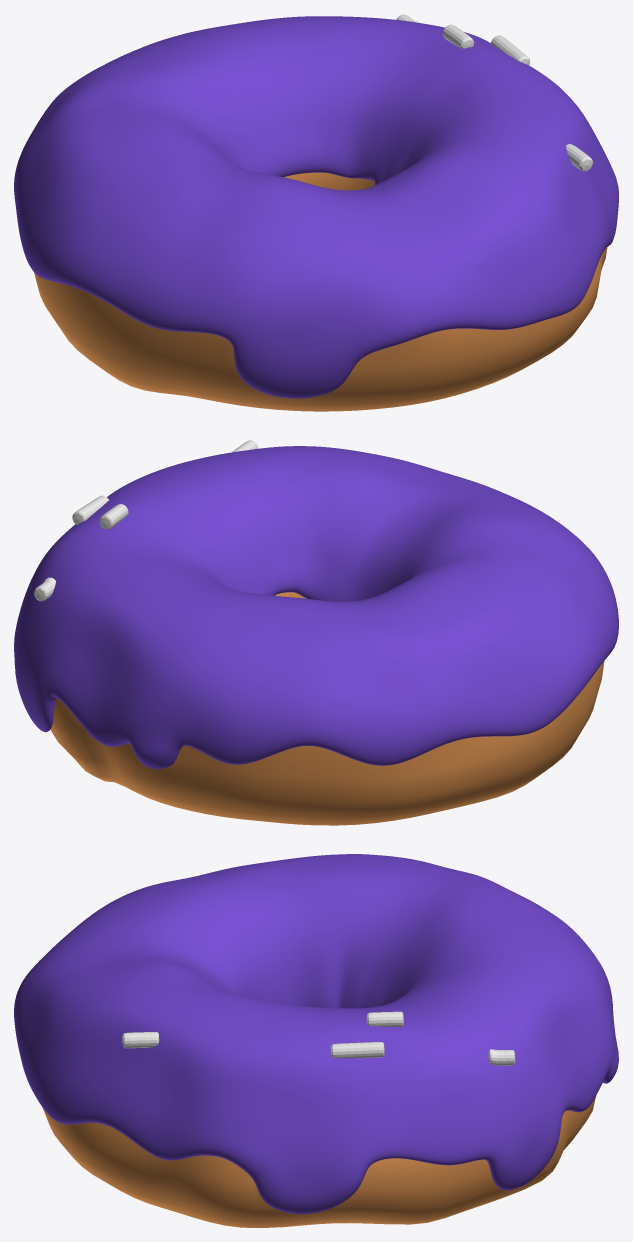
The model's file is Ponchikv11.fbx.
3 views of the same model, one above another, from view 1: azimuth 30°, elevation 25°; view 2: azimuth 150°, elevation 25°; view 3: azimuth 270°, elevation 25° (orthographic). The views are drawn at different scales.
Visible parts, largest first — view 1: icing, Donat; view 2: icing, Donat; view 3: icing, Donat, Cylinder, Cylinder.003, Cylinder.001.
Boxes of the visible parts, box(x1,y1,x2,y2) form: icing: box(14, 16, 618, 398); Donat: box(34, 172, 607, 411); icing: box(14, 446, 618, 769); Donat: box(50, 592, 604, 825); icing: box(14, 854, 618, 1214); Donat: box(43, 1096, 595, 1227); Cylinder: box(330, 1042, 384, 1058); Cylinder.003: box(122, 1032, 159, 1048); Cylinder.001: box(366, 1011, 403, 1026).
Bounding box in the file's own units: 11.16 × 4.4 × 11.21.
